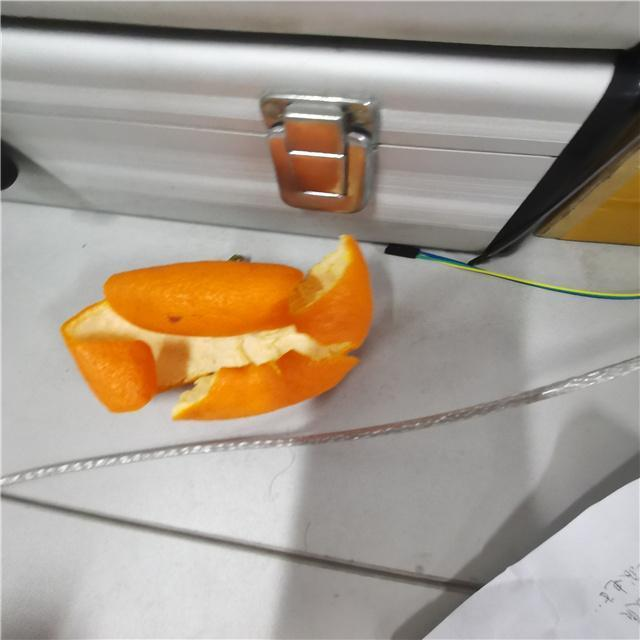orange peel: (58, 230, 382, 421)
